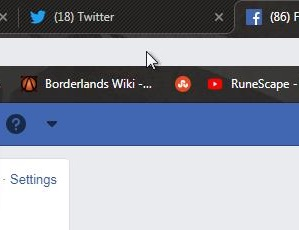cursor: (145, 50, 158, 70)
